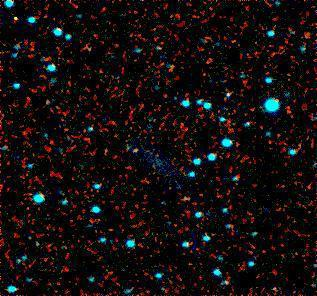star: (2, 2, 32, 32)
